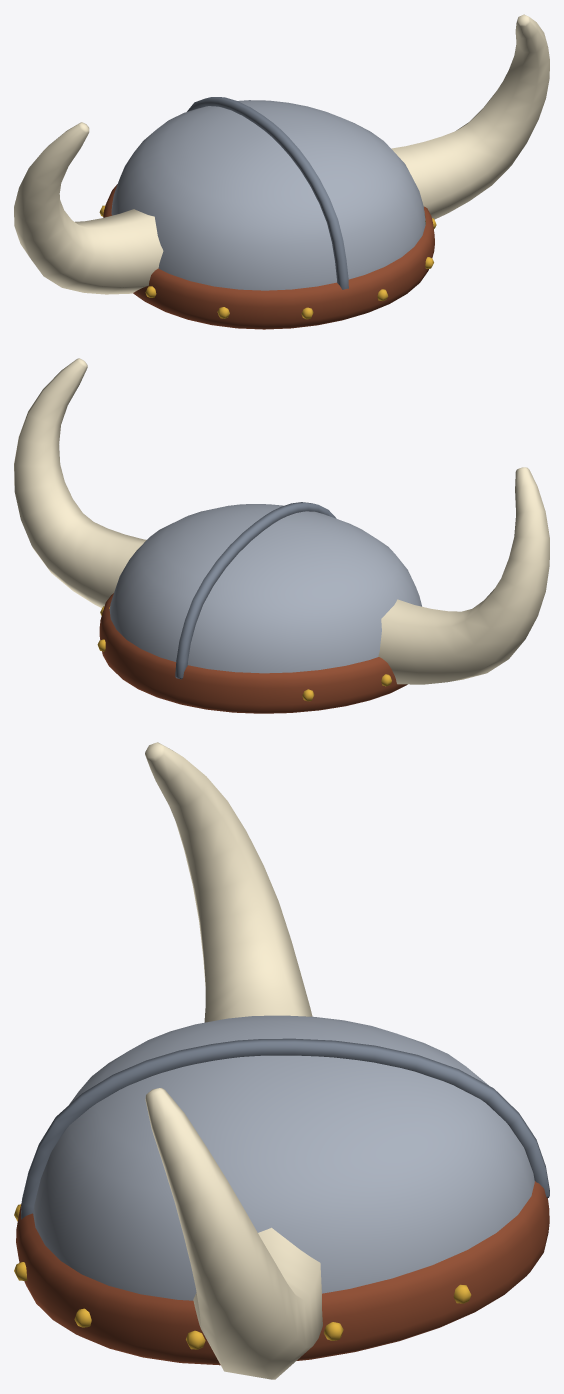
The model's file is hat_viking.glb.
The picture shows the model from 3 angles, top to bottom: view 1: azimuth 30°, elevation 25°; view 2: azimuth 150°, elevation 25°; view 3: azimuth 270°, elevation 25°; orthographic projection. The views are drawn at different scales.
Parts seen in each view (by area): view 1: HatViking; view 2: HatViking; view 3: HatViking.
Part boxes in pixels (x1=…): HatViking: x1=14, y1=14, x2=549, y2=329; HatViking: x1=14, y1=358, x2=549, y2=713; HatViking: x1=14, y1=742, x2=549, y2=1379.
Bounding box in the file's own units: 1.03 × 0.4175 × 0.5689.
